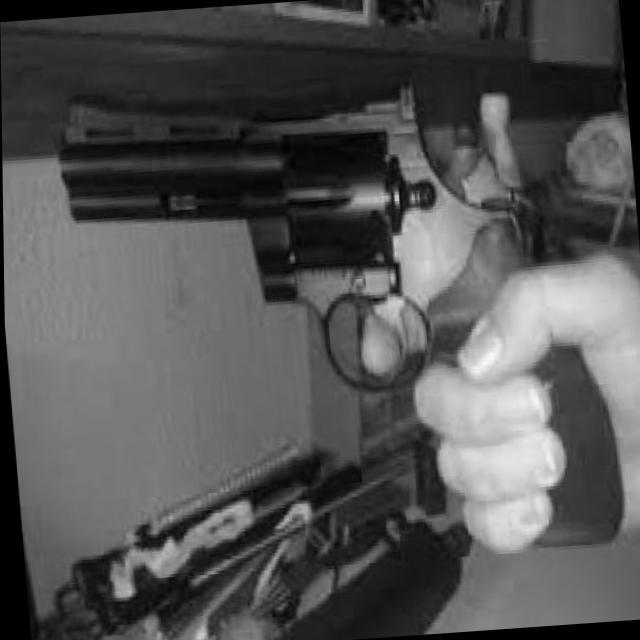weapon: (12, 49, 640, 591)
